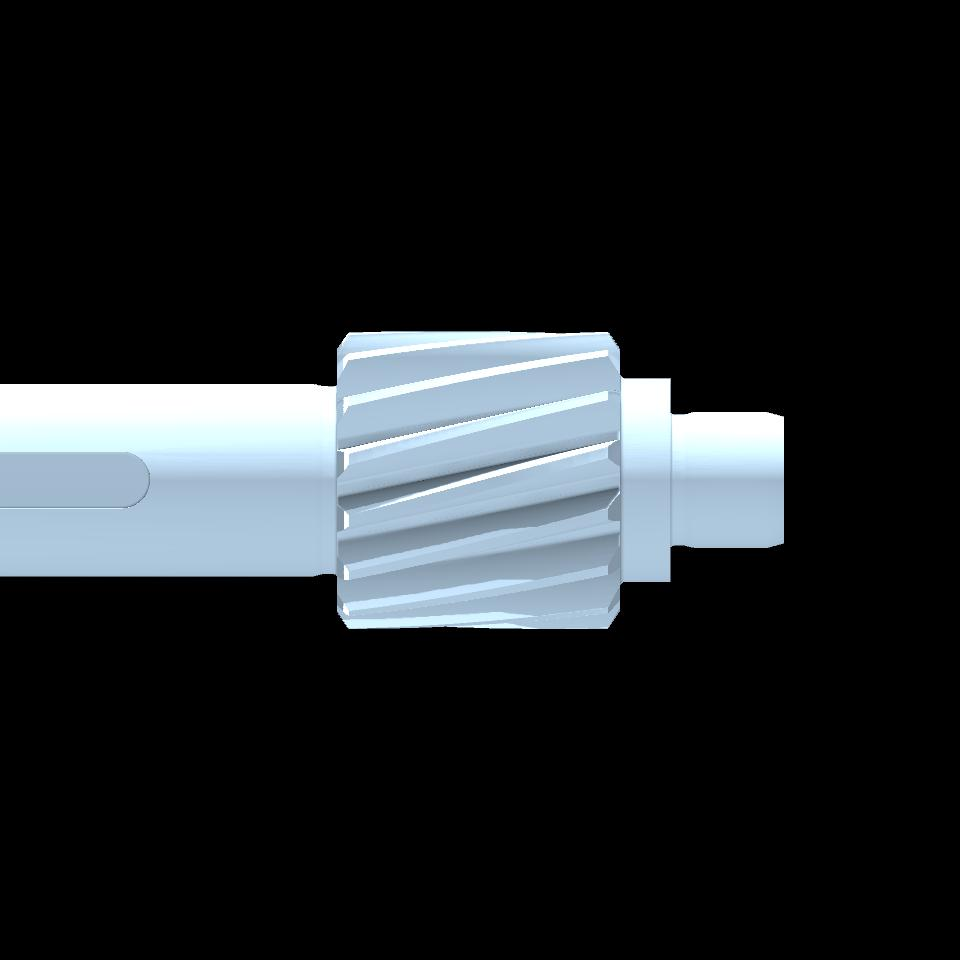Helical: (349, 332, 610, 629)
